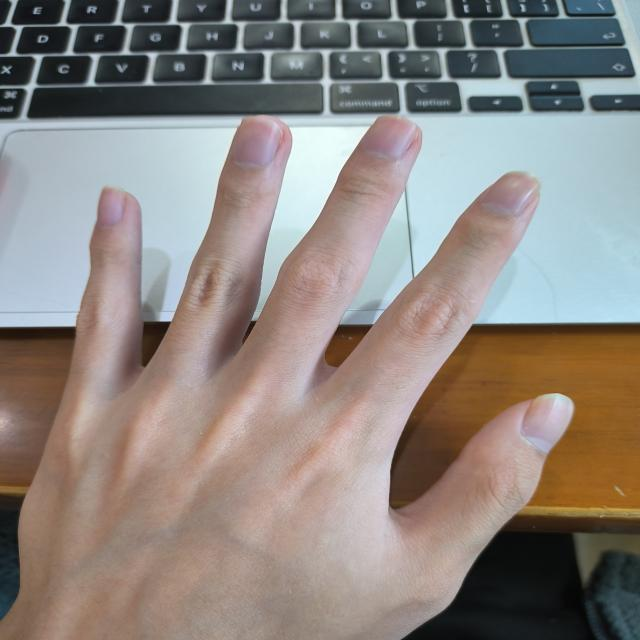Nail: (523, 393, 574, 453), (231, 117, 283, 168), (480, 171, 540, 215), (363, 115, 418, 159), (97, 185, 126, 226)
